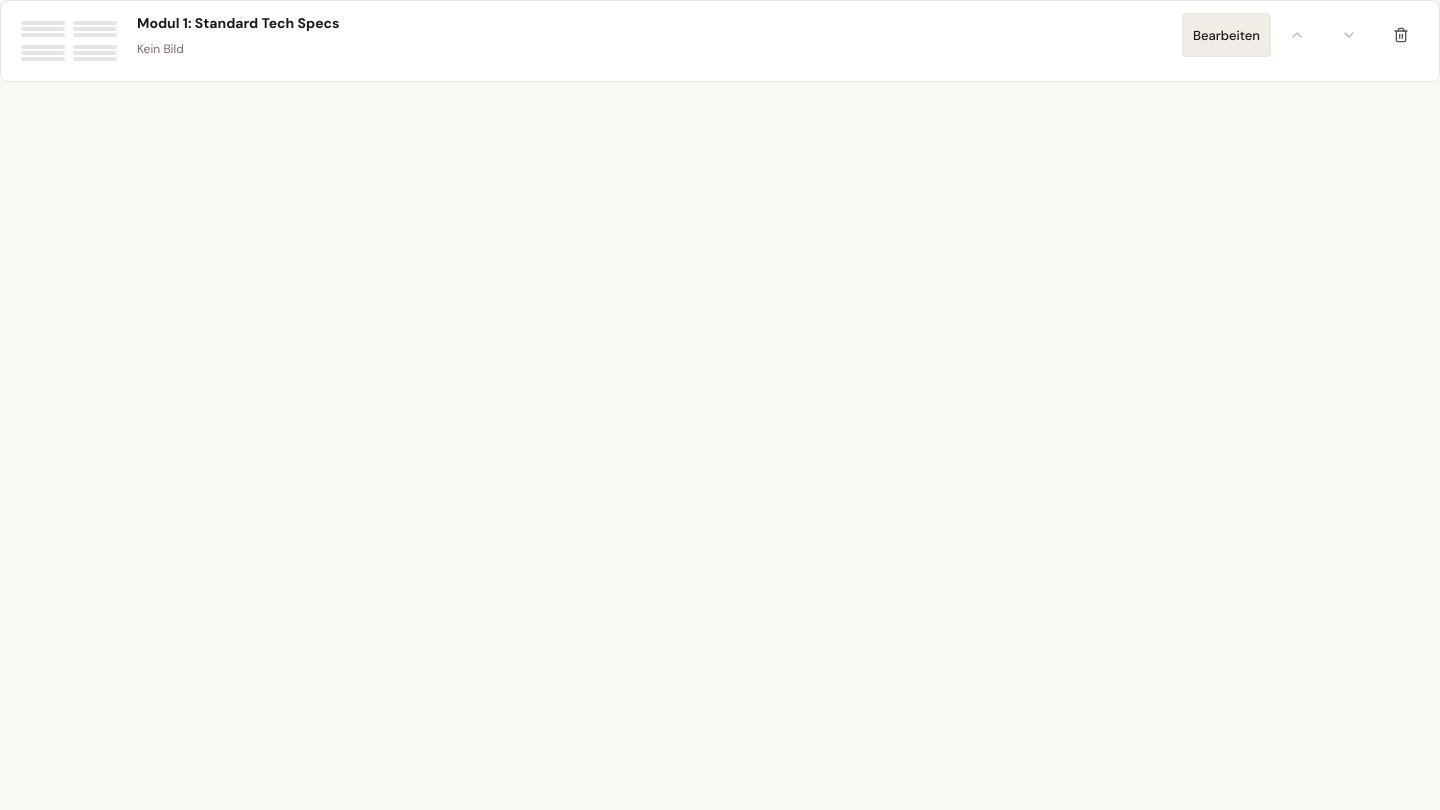
Test: AplusModuleCard › keeps at least four tech-spec rows
This screenshot has width=1440, height=810.
Click the button with test id "aplus-module-0-toggle".
click(1226, 35)  # box [1182,13,1271,57]
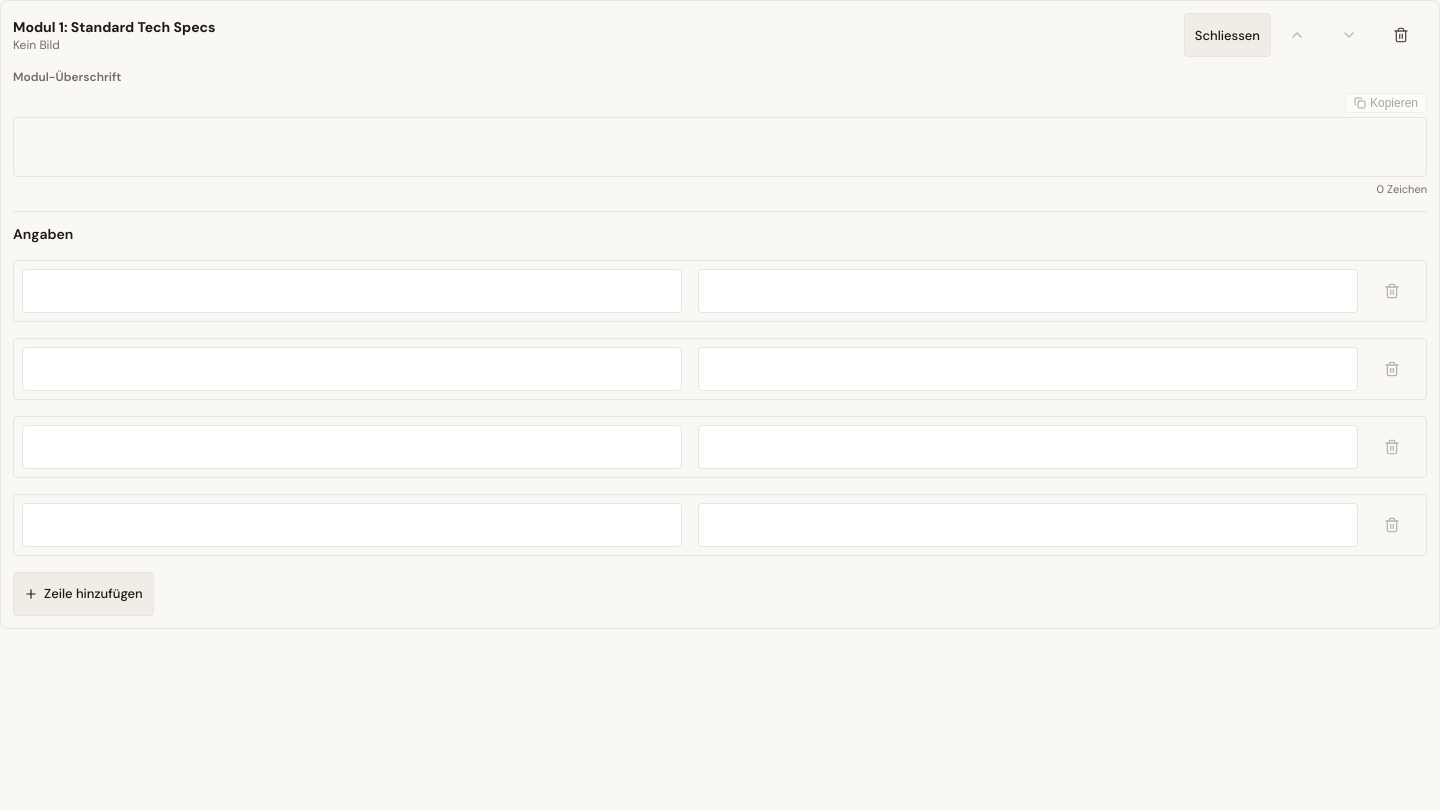
Expected: the field with test id "aplus-module-0-row-3-value-0" is shown, [698,503,1358,547]
Now the button with test id "aplus-module-0-row-0-remove" is disabled, box [1374,269,1418,313]
